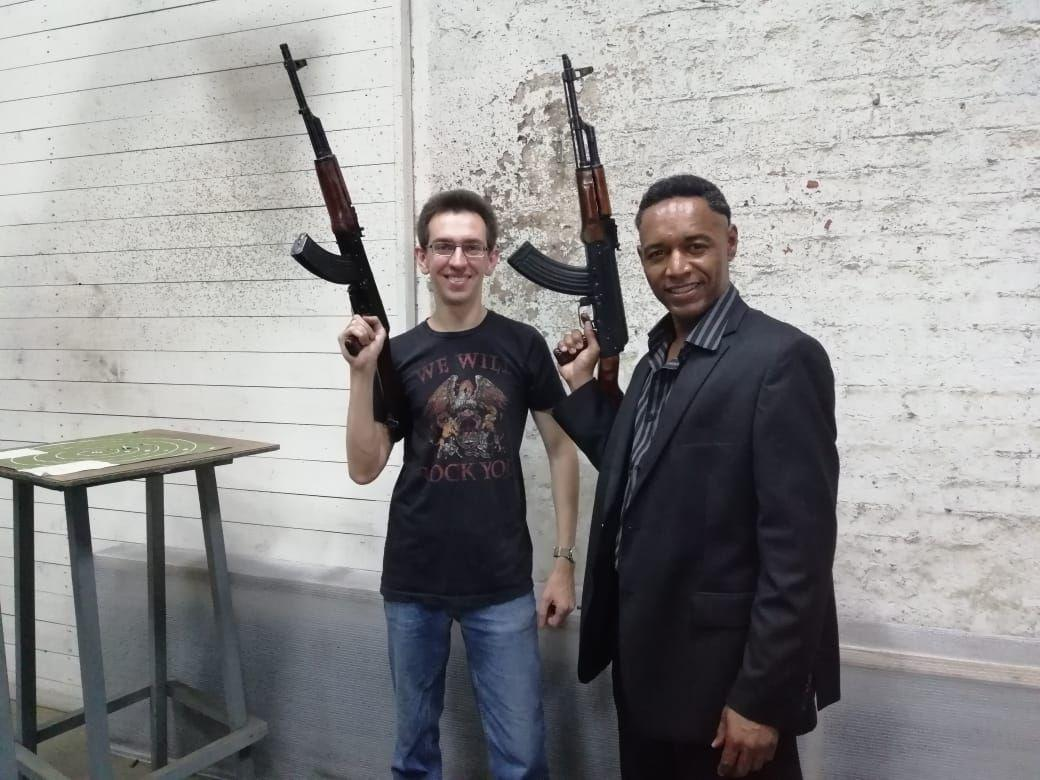larga: (279, 41, 419, 442), (505, 54, 630, 435)
